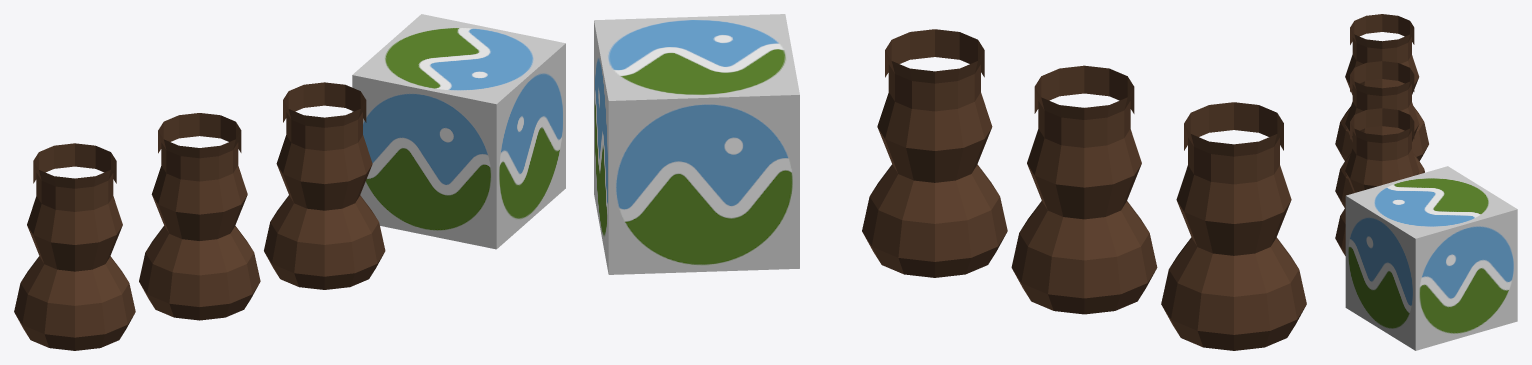
File: case3.glb
3 renders of one model, left to right at view 1: azimuth 30°, elevation 25°; view 2: azimuth 150°, elevation 25°; view 3: azimuth 270°, elevation 25°, orthographic. The views are drawn at different scales.
Visible parts, largest first — view 1: vase, node 1; view 2: vase, node 1; view 3: node 1, vase.
Part boxes in pixels (x1,y1,x2,y2): vase: [14, 82, 385, 350]; node 1: [352, 14, 565, 249]; vase: [862, 29, 1306, 350]; node 1: [594, 14, 799, 274]; node 1: [1345, 166, 1517, 350]; vase: [1335, 14, 1428, 255].
Bounding box in the file's own units: 4.07 × 1.16 × 1.47.
Materials: 2 (2 with a texture image).
